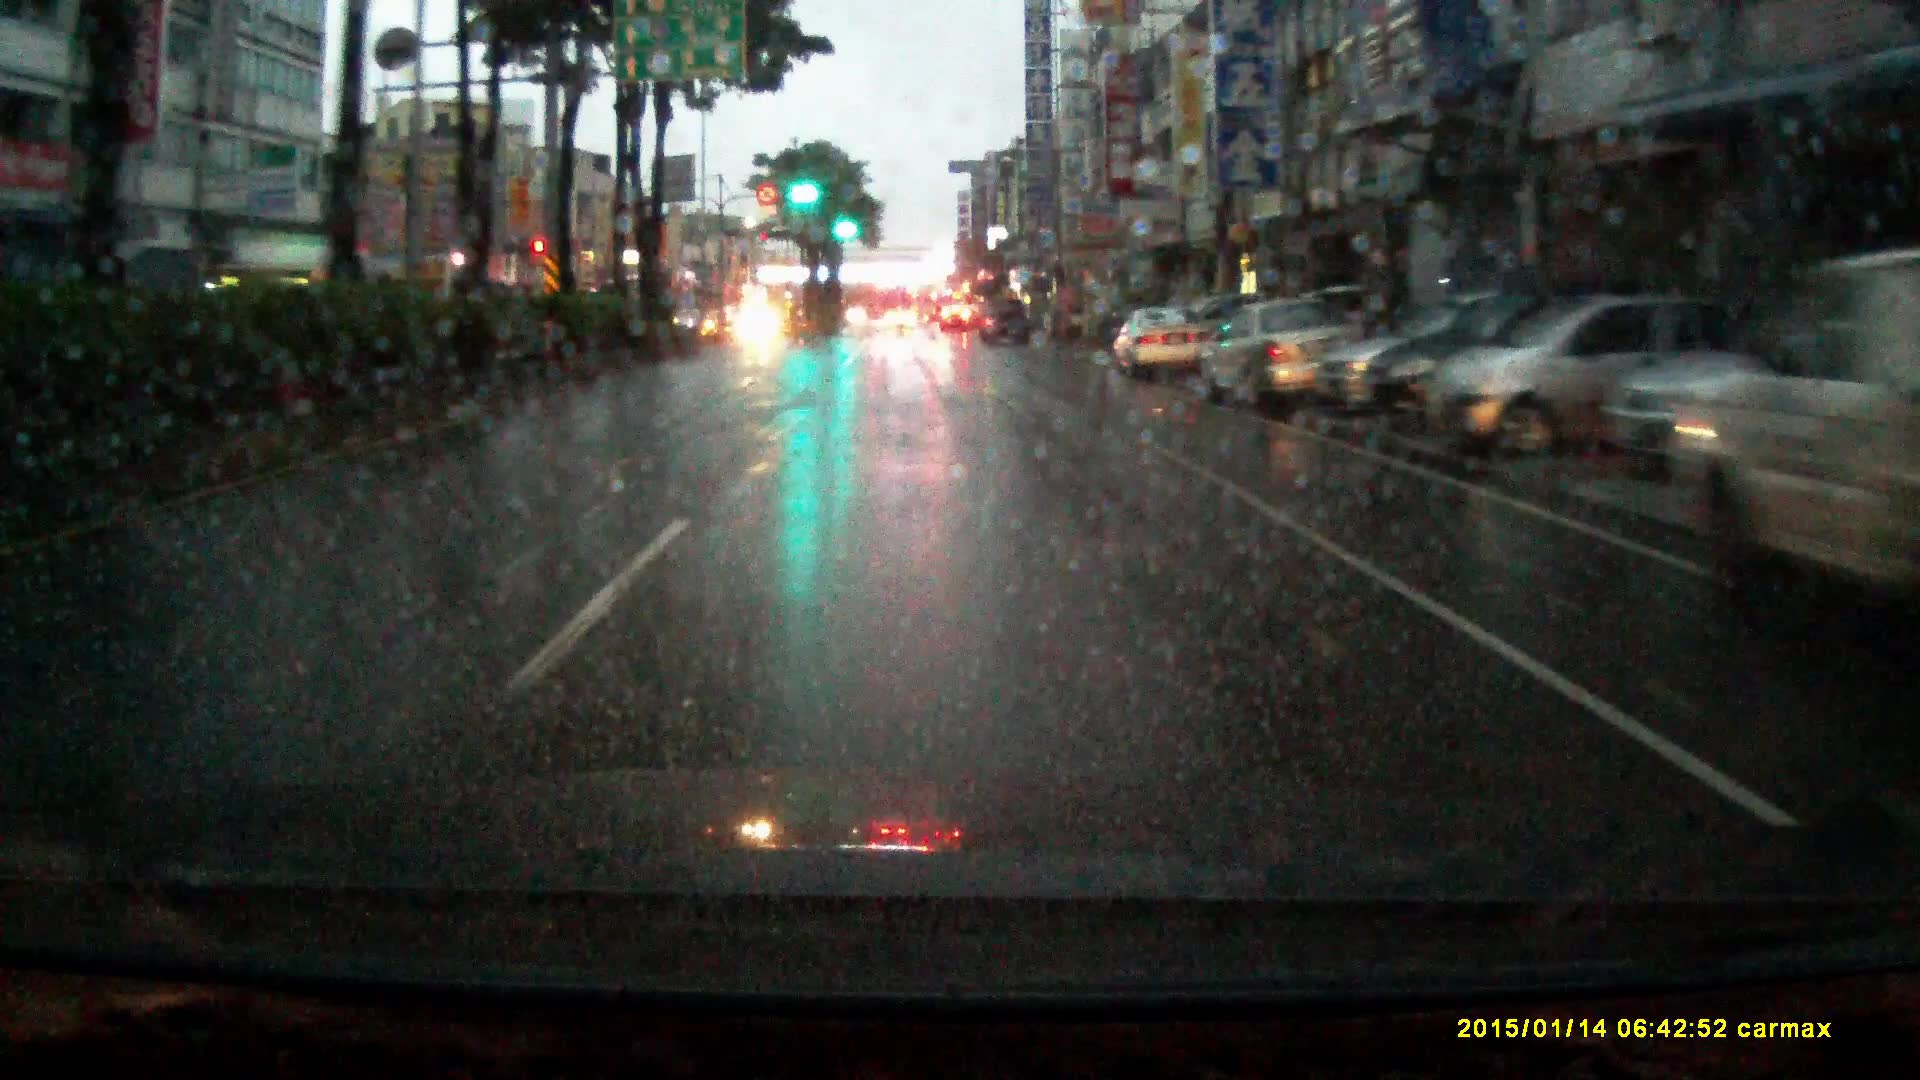vehicle: (1683, 248, 1920, 615), (1428, 289, 1756, 459), (1195, 291, 1375, 423), (1114, 303, 1203, 382), (978, 293, 1031, 342), (733, 301, 787, 347), (940, 299, 975, 330), (914, 280, 940, 318), (886, 305, 918, 324)
